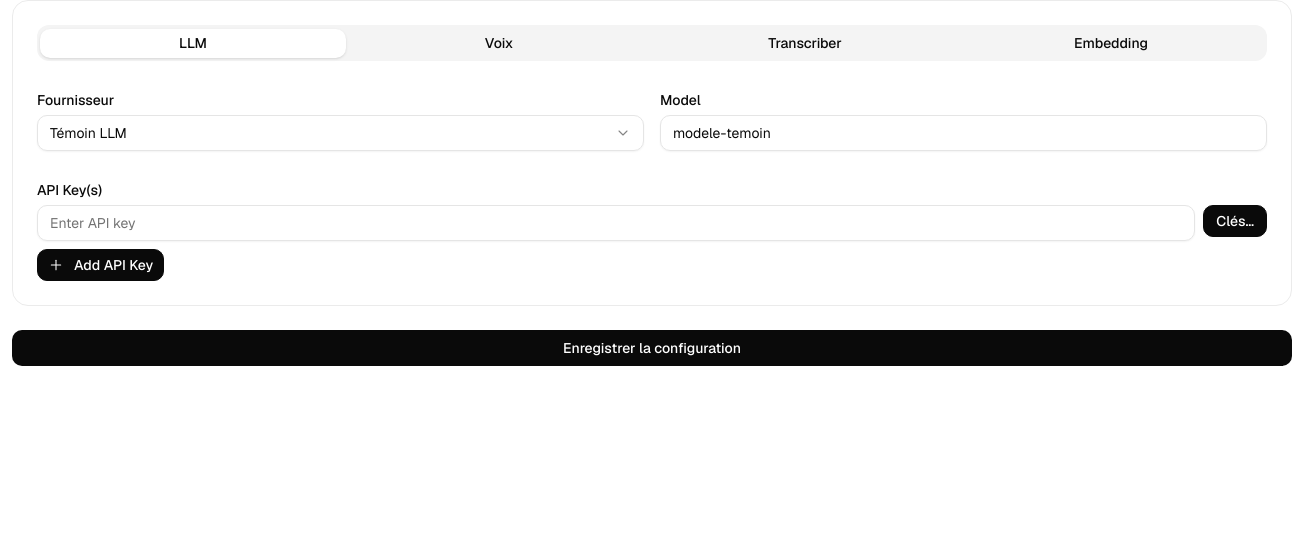
it: [.mark] la voix de l'appel à l'écran › verrouille l'onglet Voice d'un agent d'un groupe et dit pourquoi
Press the mouse on the tab "Voix" at (499, 43), box [346,28,652,58]
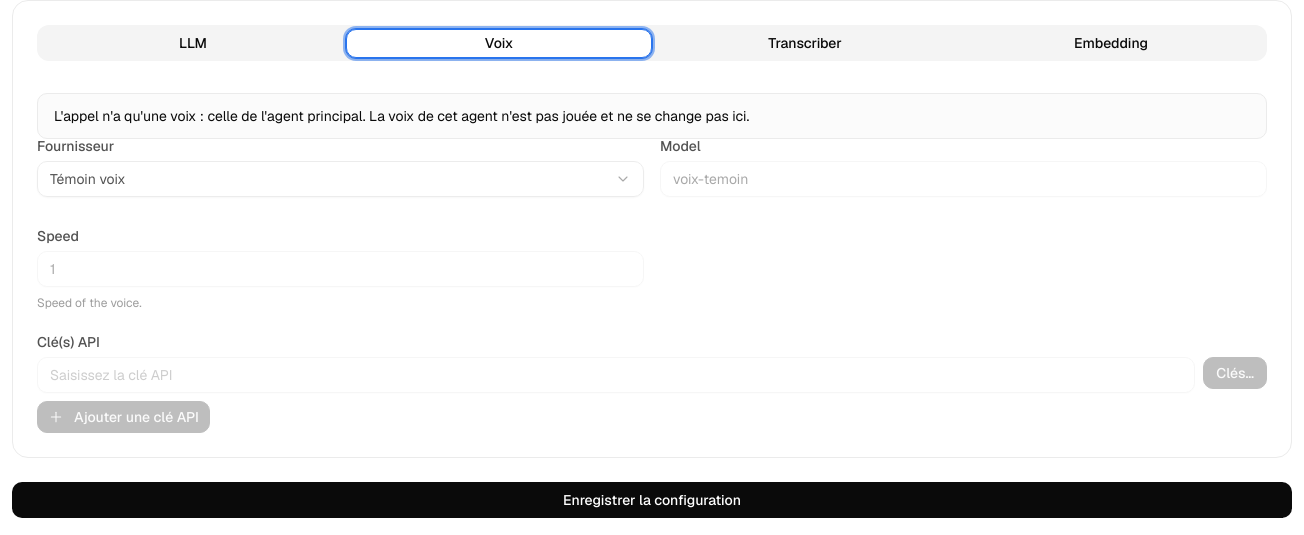
expect the dropdown labelled "Témoin voix" is shown: met, box [37,161,644,197]
expect the text "L'appel n'a qu'une voix" is shown: met, box [54,107,749,125]
expect the element that starts with "Fournisseur" is disabled: met, box [37,139,1267,433]
